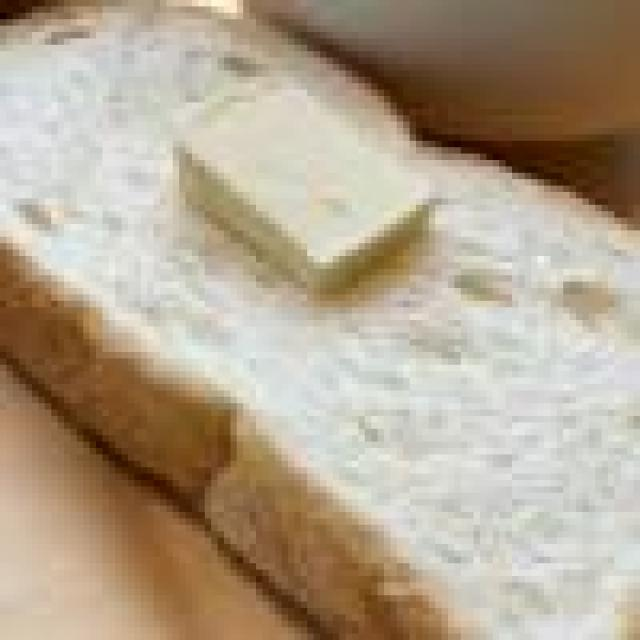Bread: (0, 4, 640, 640)
